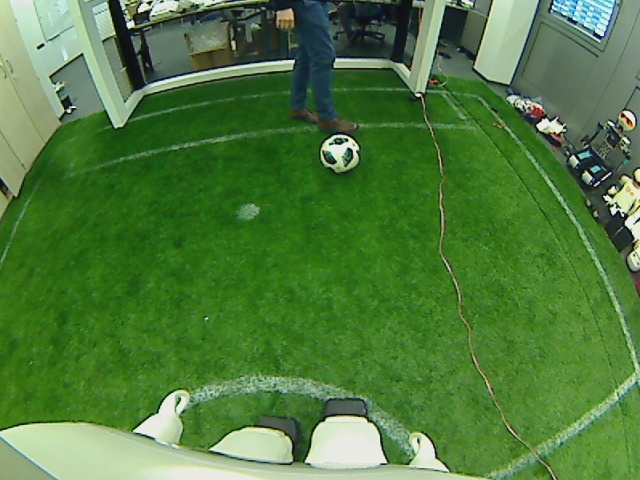ball: (318, 131, 360, 174)
